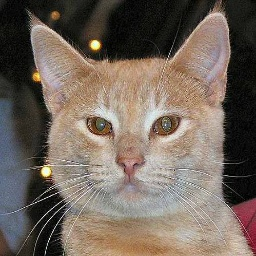cat: (29, 5, 250, 256)
